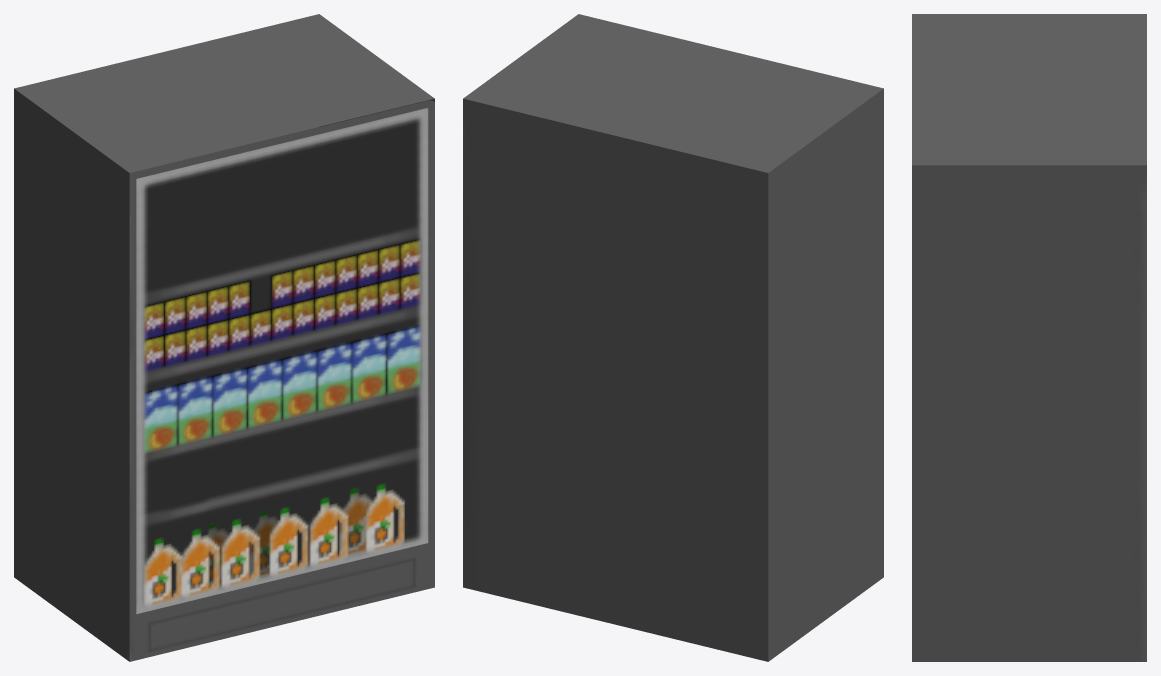
The model's file is cooler.fbx.
3 views of the same model, side by side, from view 1: azimuth 30°, elevation 25°; view 2: azimuth 150°, elevation 25°; view 3: azimuth 270°, elevation 25° (orthographic).
Parts seen in each view (by area): view 1: cooler; view 2: cooler; view 3: cooler.
Boxes of the visible parts, x1,y1,x2,y2 form: cooler: (14, 14, 434, 661); cooler: (463, 14, 883, 661); cooler: (912, 14, 1146, 661).
Bounding box in the file's own units: 220 × 336 × 144.
